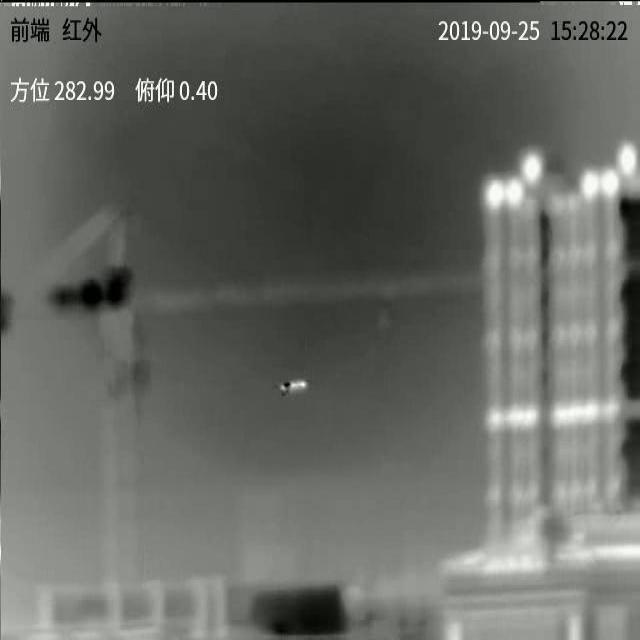drone: (279, 379, 309, 398)
